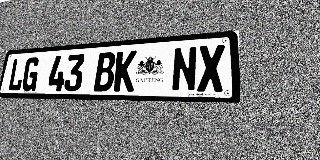3: (63, 54, 85, 91)
4: (47, 55, 68, 91)
B: (93, 52, 116, 91)
G: (21, 57, 41, 91)
K: (113, 50, 137, 92)
L: (7, 58, 26, 91)
N: (171, 46, 197, 92)
X: (197, 44, 225, 92)
